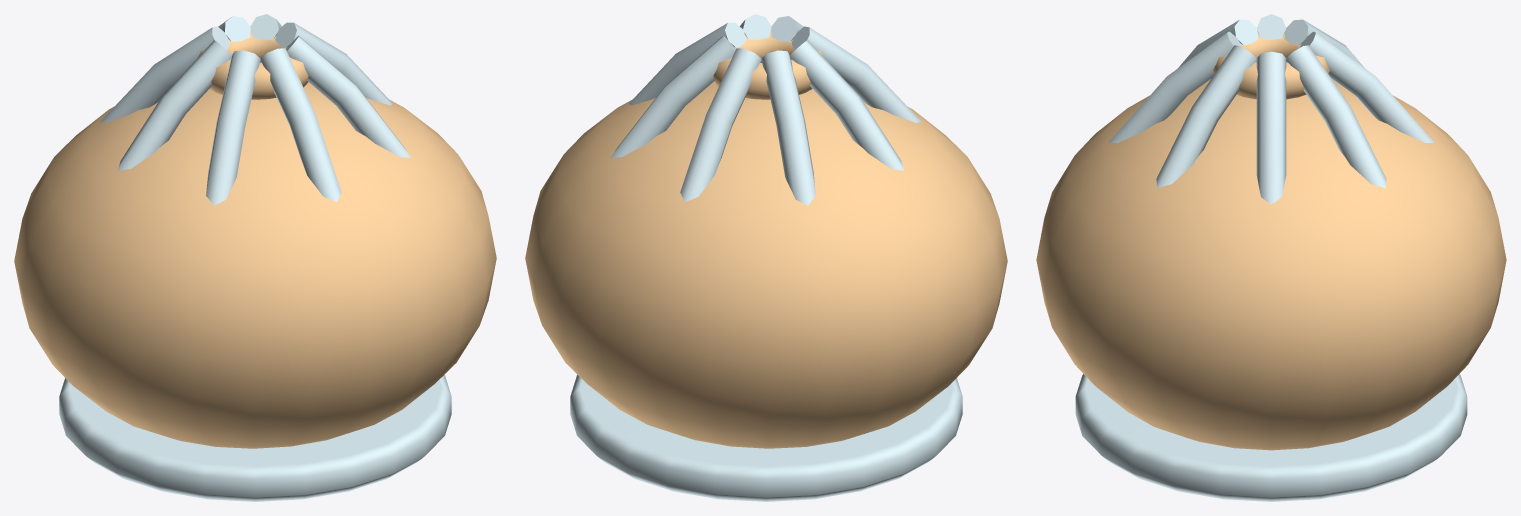
Rendered from dumpling.fbx.
3 renders of one model, left to right at view 1: azimuth 30°, elevation 25°; view 2: azimuth 150°, elevation 25°; view 3: azimuth 270°, elevation 25°, orthographic.
Parts seen in each view (by area): view 1: dumpling; view 2: dumpling; view 3: dumpling.
Part boxes in pixels (bbox=[...]): dumpling: bbox=[14, 14, 496, 501]; dumpling: bbox=[525, 14, 1007, 501]; dumpling: bbox=[1036, 14, 1506, 501].
Bounding box in the file's own units: 100 × 88.68 × 96.77.
Materials: 1 (1 with a texture image).
